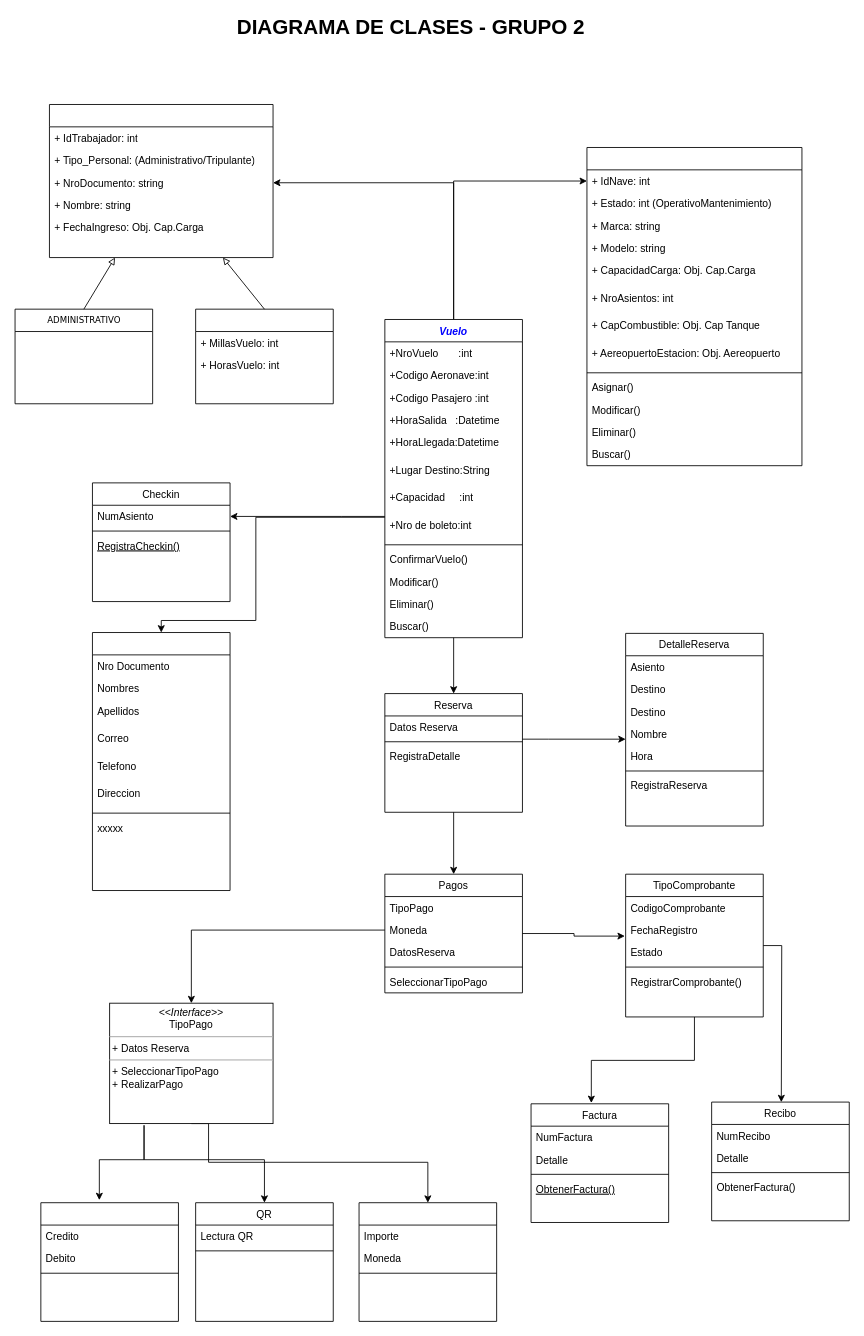
Some shapes in this 864 by 1336 pixel diagram are drawn without their labels. The box of each missing label's shape, as (x1, y1, x2, y2) in pixels:
<<abstract>> PERSONAL: (49, 104, 273, 258)
Aeronave: (586, 147, 802, 466)
Efectivo: (358, 1202, 497, 1321)
Pasajero: (92, 632, 230, 891)
Tarjeta: (40, 1202, 178, 1321)
TRIPULANTE: (195, 308, 333, 404)
